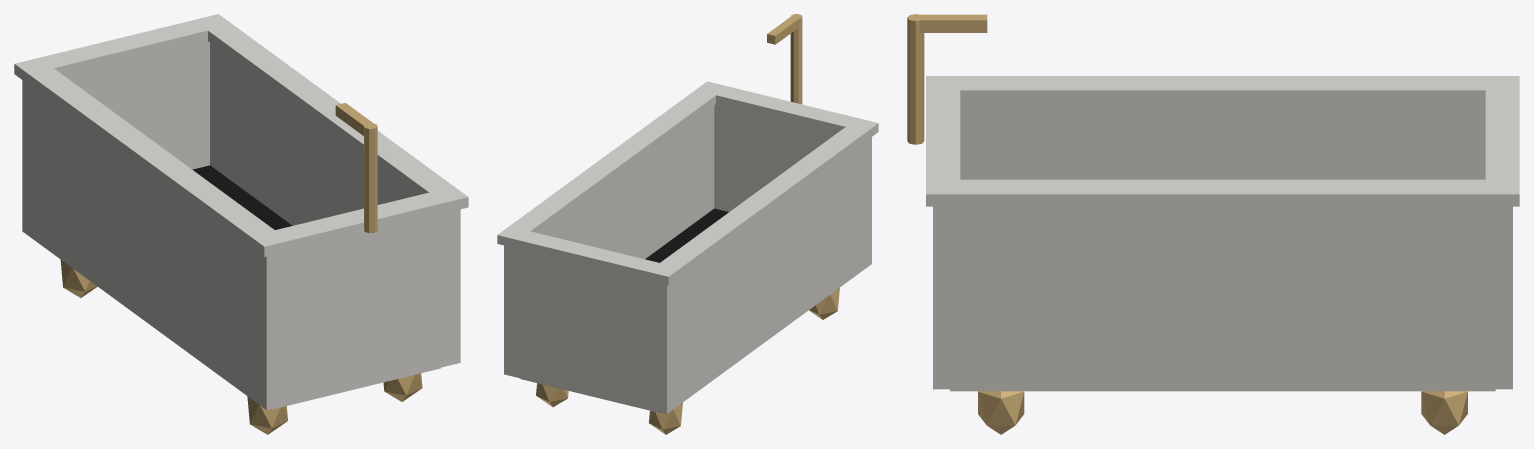
File: SM_Mob_Kuvet.fbx
3 renders of one model, left to right at view 1: azimuth 30°, elevation 25°; view 2: azimuth 150°, elevation 25°; view 3: azimuth 270°, elevation 25°, orthographic. The views are drawn at different scales.
Visible parts, largest first — view 1: Mob_Kuvet; view 2: Mob_Kuvet; view 3: Mob_Kuvet.
Boxes of the visible parts, bbox=[...] form: Mob_Kuvet: bbox=[14, 14, 468, 434]; Mob_Kuvet: bbox=[497, 14, 878, 434]; Mob_Kuvet: bbox=[907, 14, 1519, 434].
Size of the model in its own units: 82 by 122 by 179.
